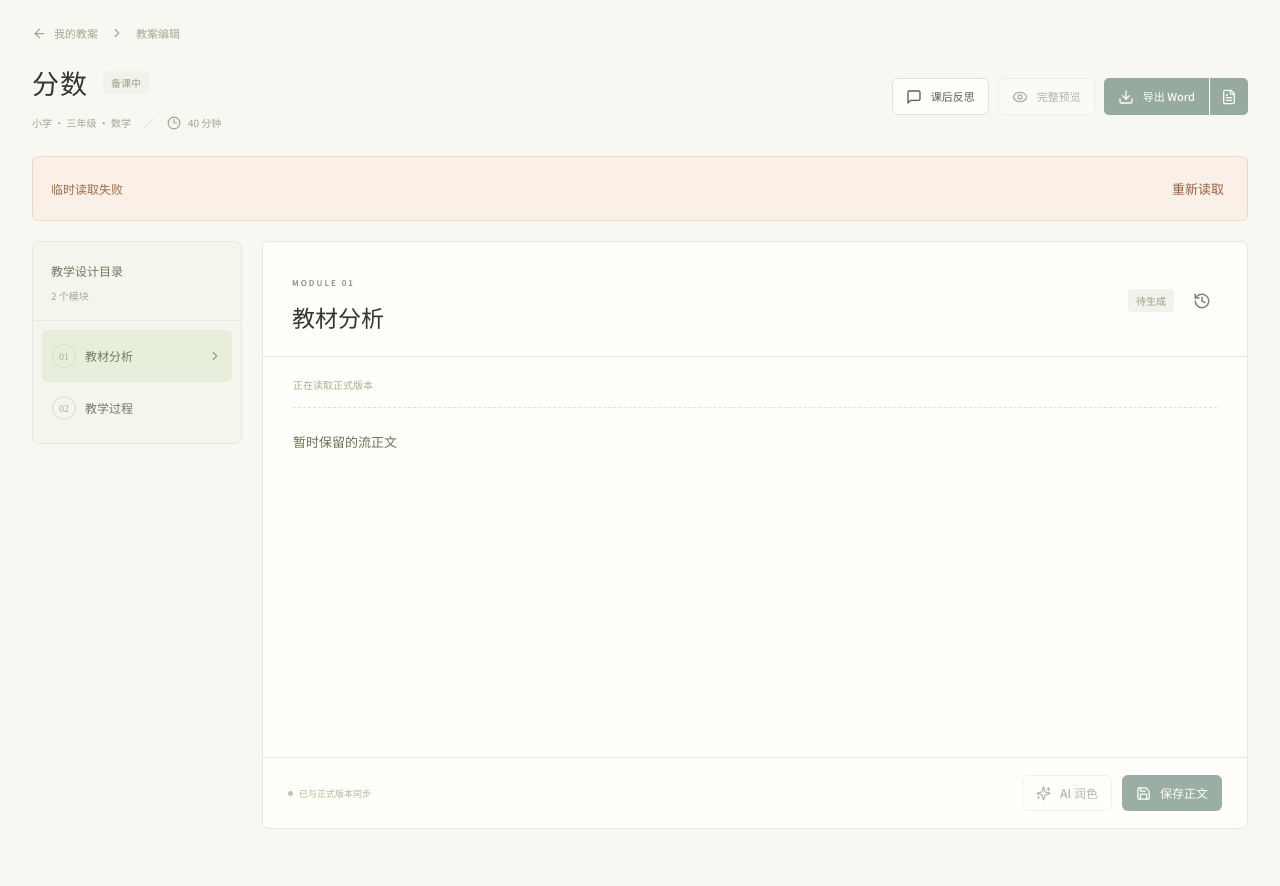
Test: hands off to the formal editor after a failed final readback is retried
The image size is (1280, 886).
expect the element with class "stream-content" shows "暂时保留的流正文": met, box [293,432,397,451]
Click the button "重新读取" at (1198, 189), box [1167,172,1229,205]
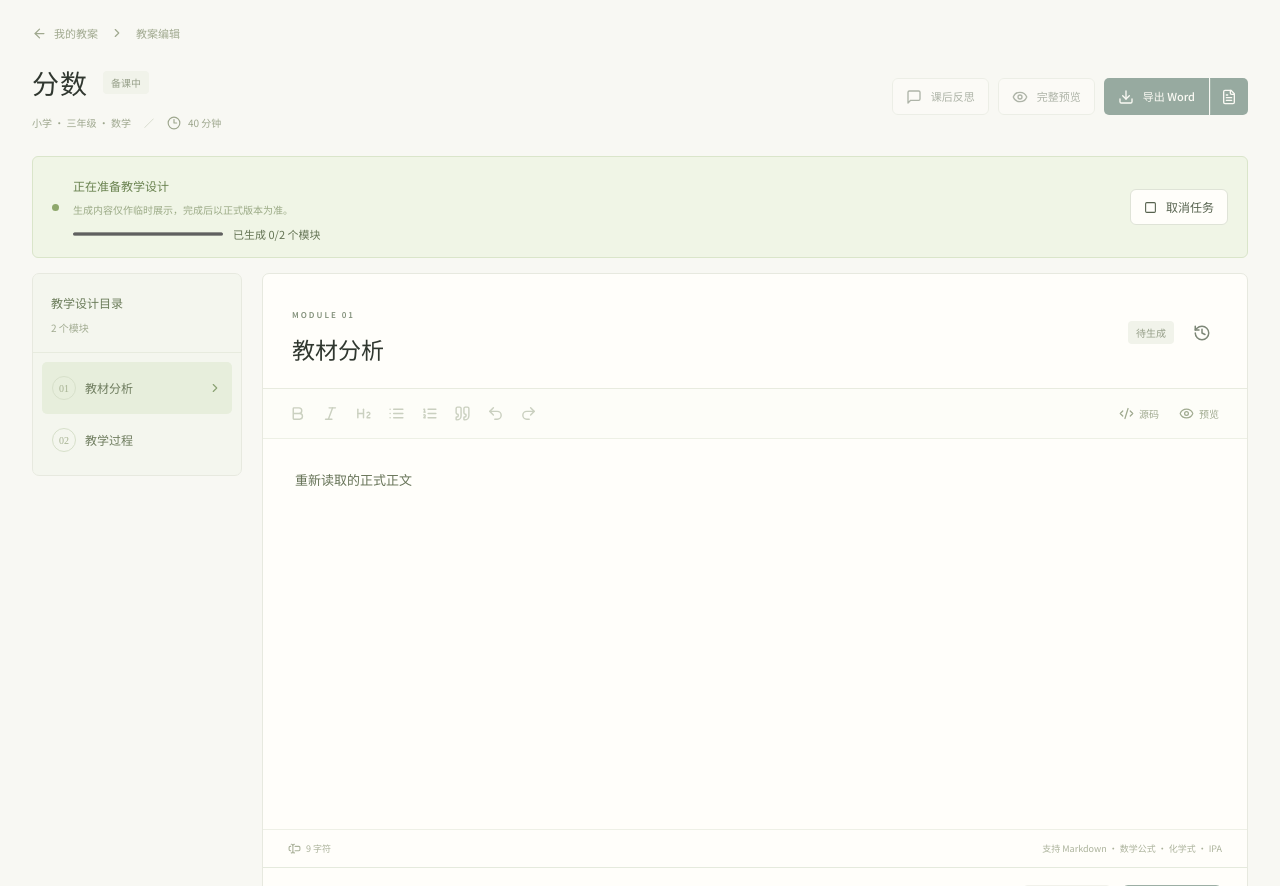
expect the element with class "stream-content" is gone: met
expect the field with class "rich-editor" reads "重新读取的正式正文": met, box [295,470,412,489]
